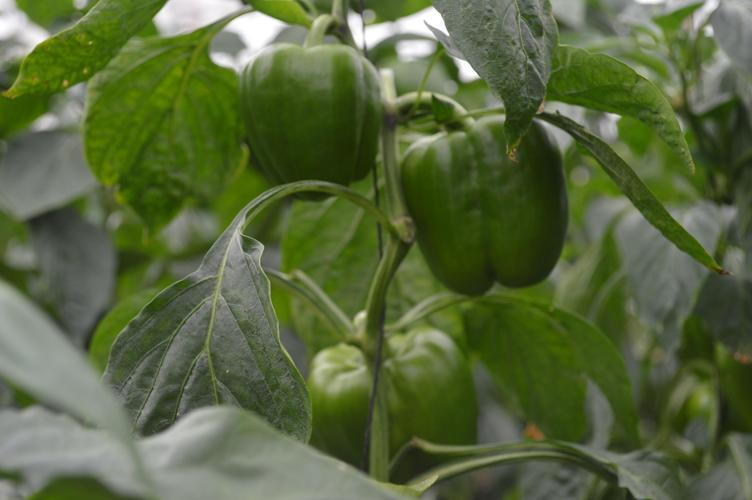BellPepper: (399, 115, 574, 301), (296, 331, 481, 476), (241, 34, 388, 203)
